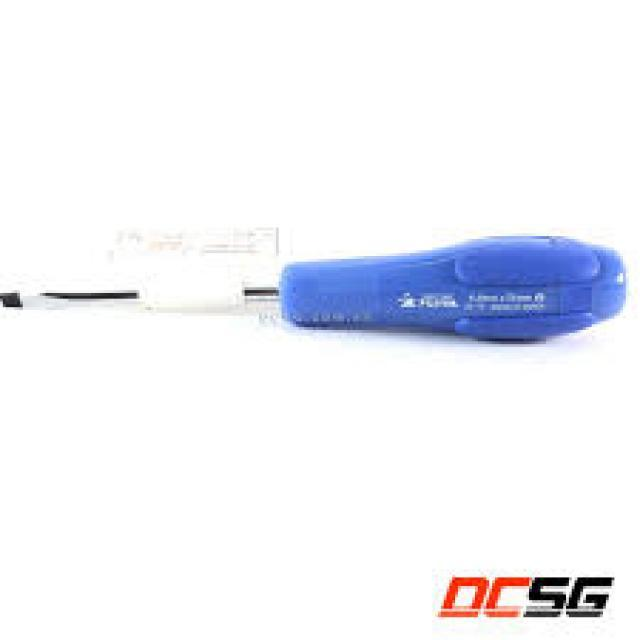screwdriver: (0, 236, 629, 344)
